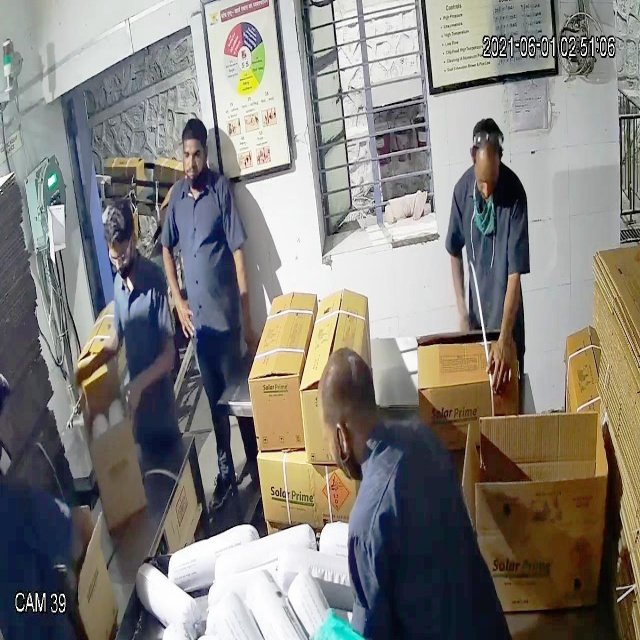Gafas: (101, 240, 142, 276)
Sin_gafas: (464, 164, 505, 199), (176, 142, 210, 167)
